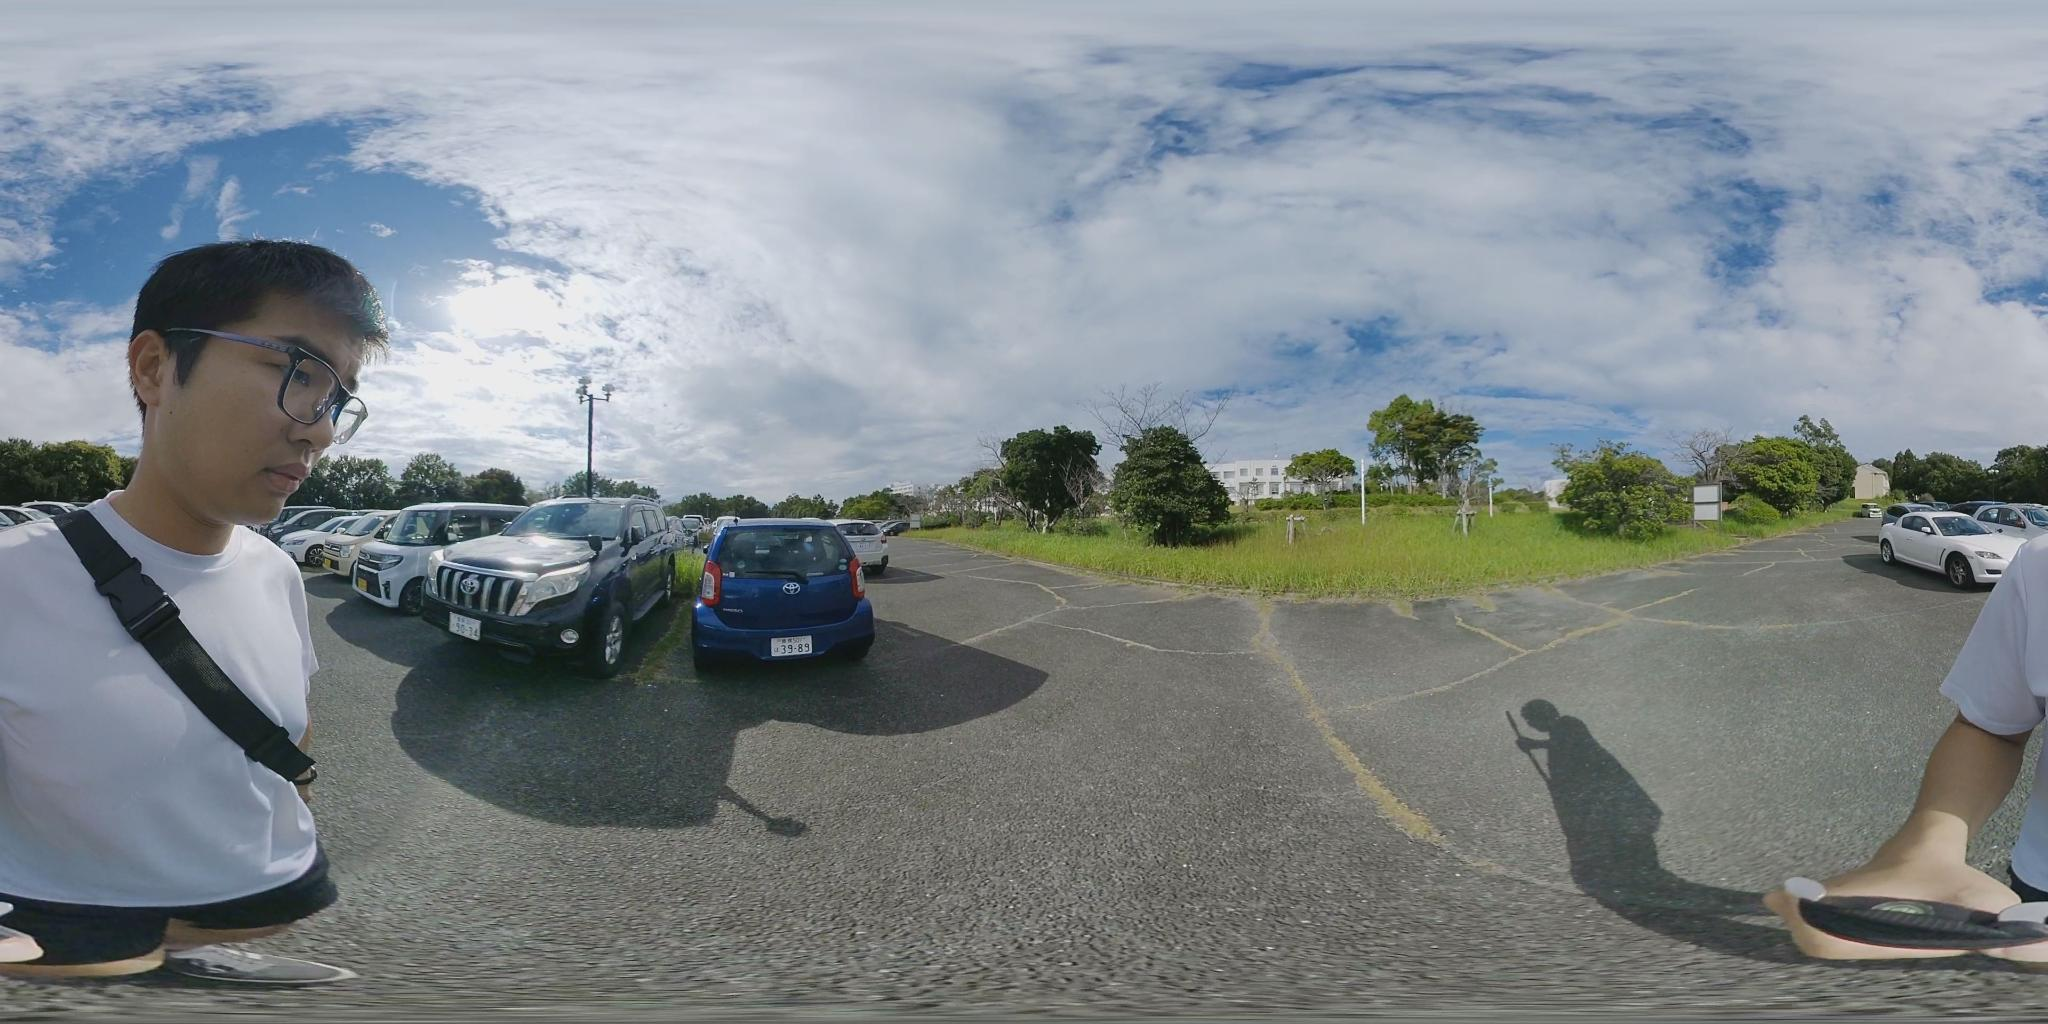car: (397, 498, 699, 678), (694, 520, 879, 666), (341, 505, 529, 609), (1878, 508, 2045, 590), (272, 511, 393, 569), (832, 521, 900, 573)
